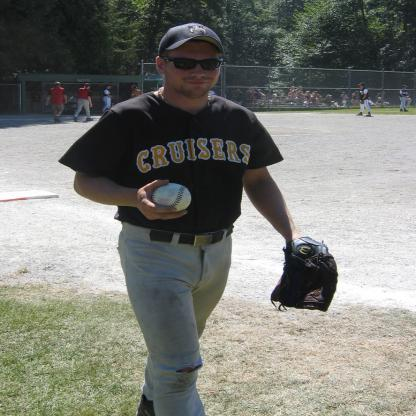Ball: (154, 182, 192, 212)
